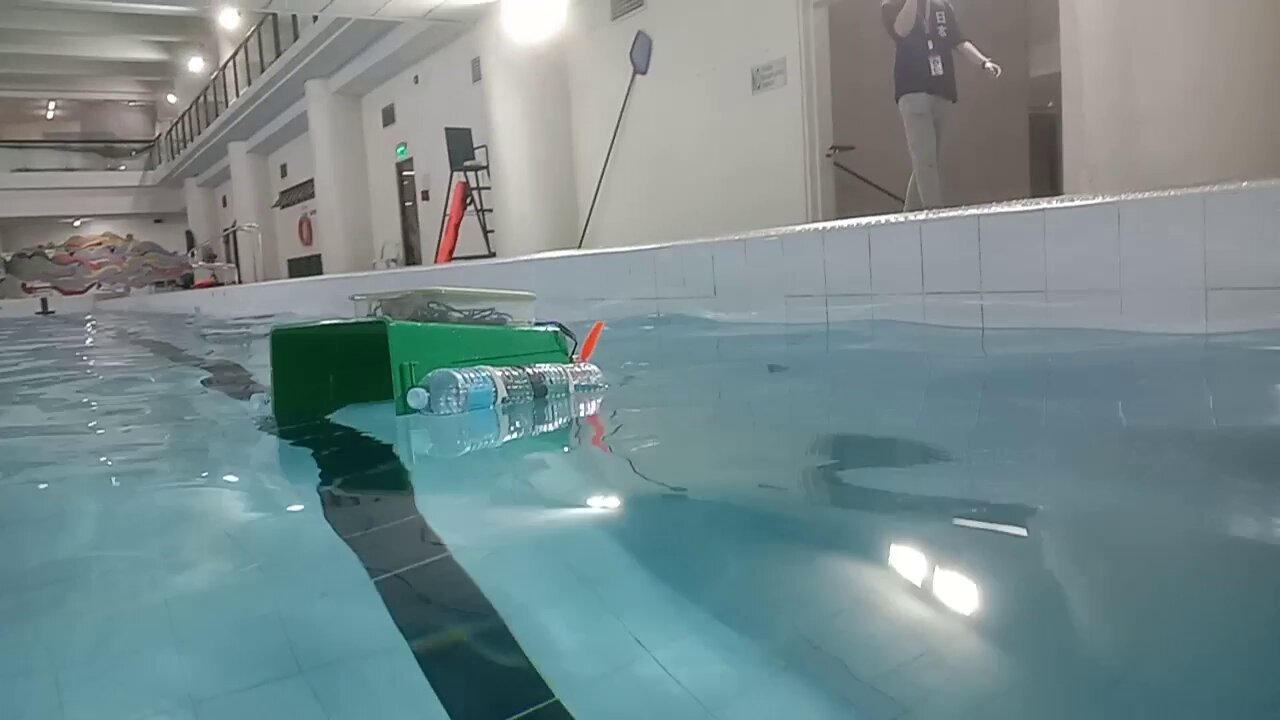drone: (249, 286, 606, 426)
